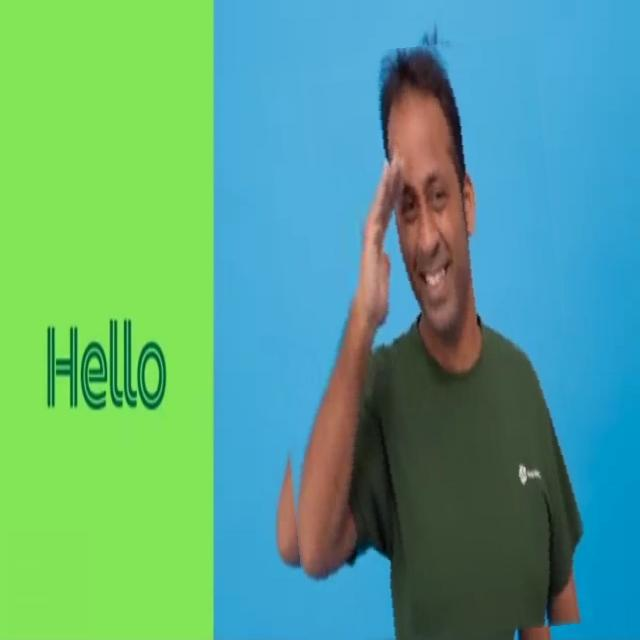Hello: (262, 40, 579, 640)
